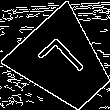L_SE: (35, 34, 93, 92)
